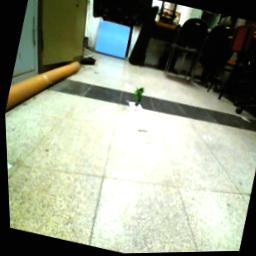herb: (130, 85, 147, 111)
